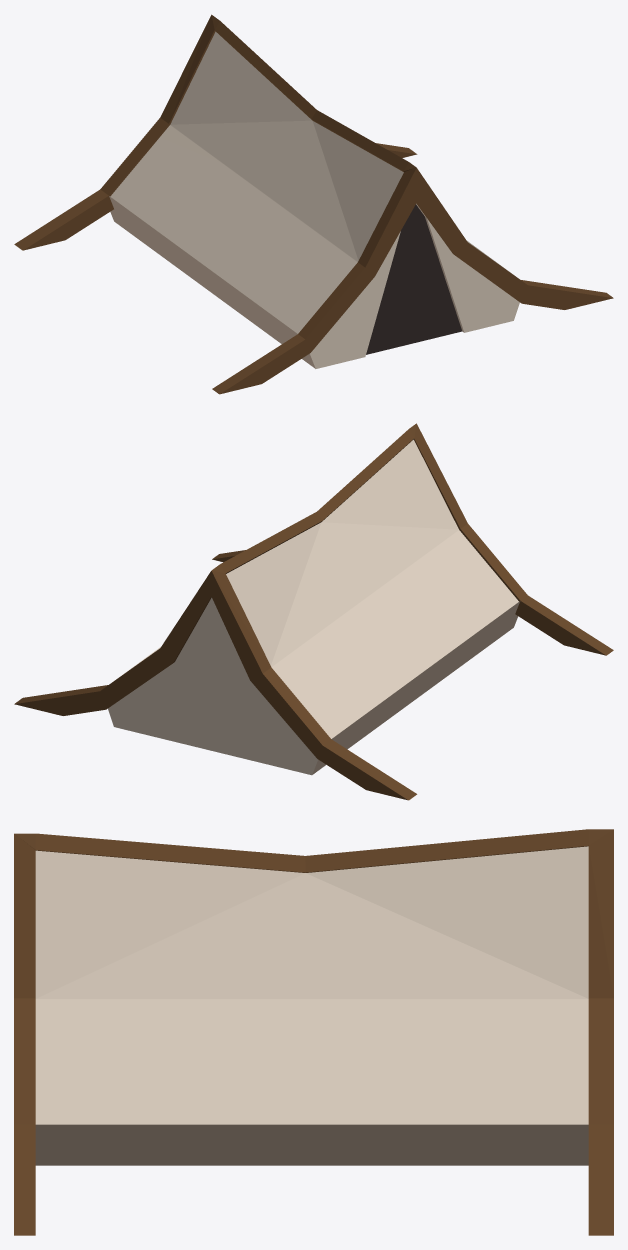
The model's file is Prop_Tent_02.fbx.
3 renders of one model, top to bottom at view 1: azimuth 30°, elevation 25°; view 2: azimuth 150°, elevation 25°; view 3: azimuth 270°, elevation 25°, orthographic. The views are drawn at different scales.
Visible parts, largest first — view 1: Prop_Tent_02; view 2: Prop_Tent_02; view 3: Prop_Tent_02.
Part boxes in pixels (left/top/right/bottom): Prop_Tent_02: left=14, top=14, right=613, bottom=394; Prop_Tent_02: left=14, top=423, right=613, bottom=800; Prop_Tent_02: left=14, top=829, right=613, bottom=1235.
Size of the model in its own units: 6477 by 2850 by 5828.
